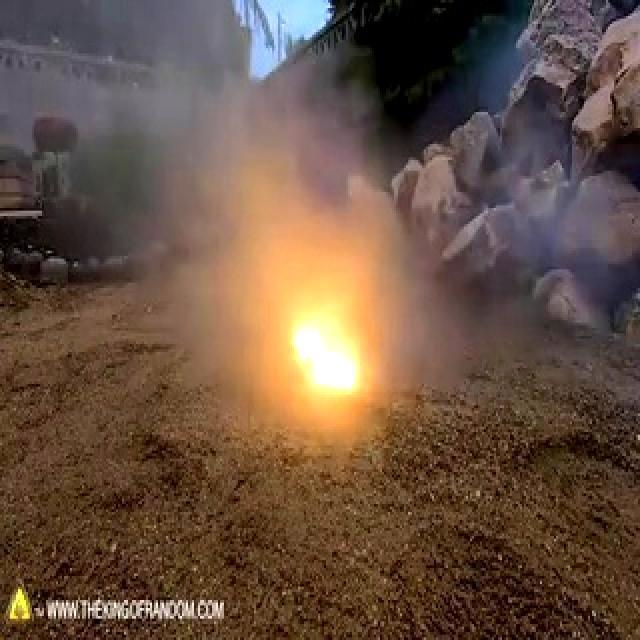Fire: (272, 298, 368, 406)
Smoke: (19, 0, 410, 287), (388, 222, 636, 400)
